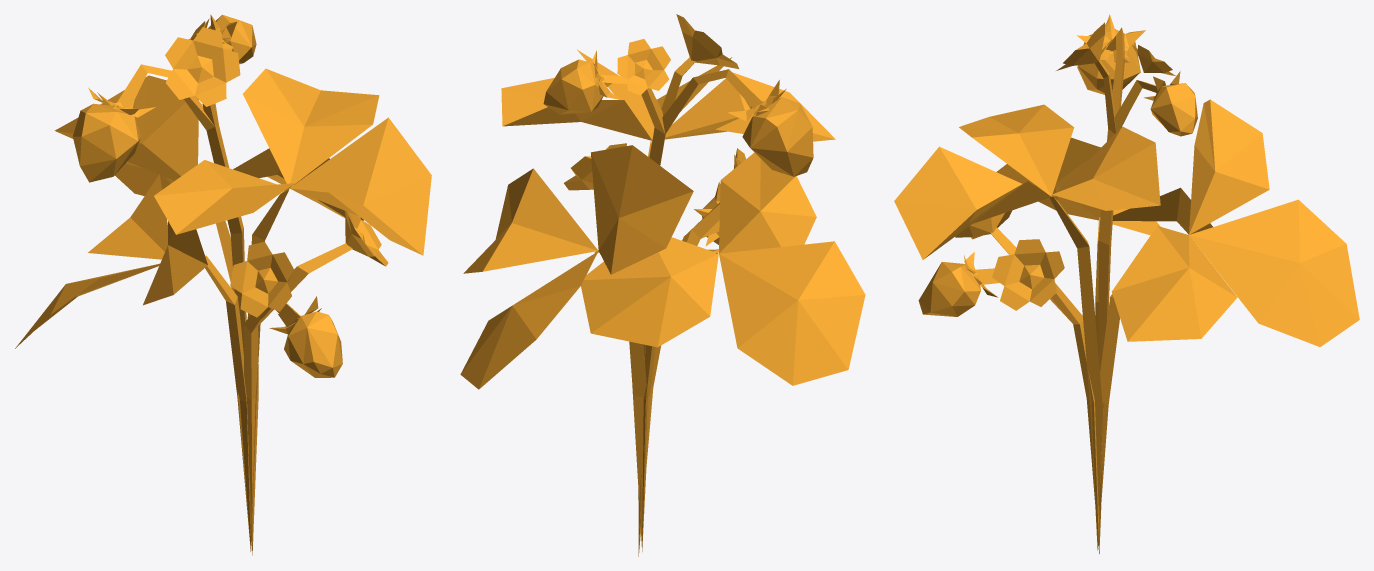
Rendered from SM_Strawberry_Plant_Flowering.fbx.
3 renders of one model, left to right at view 1: azimuth 30°, elevation 25°; view 2: azimuth 150°, elevation 25°; view 3: azimuth 270°, elevation 25°, orthographic. The views are drawn at different scales.
Visible parts, largest first — view 1: strawberry-plant-flowering; view 2: strawberry-plant-flowering; view 3: strawberry-plant-flowering.
Part boxes in pixels (x1,y1,x2,y2): strawberry-plant-flowering: (15, 14, 431, 555); strawberry-plant-flowering: (460, 14, 865, 556); strawberry-plant-flowering: (894, 14, 1359, 553).
Bounding box in the file's own units: 0.2302 × 0.3372 × 0.2775.
